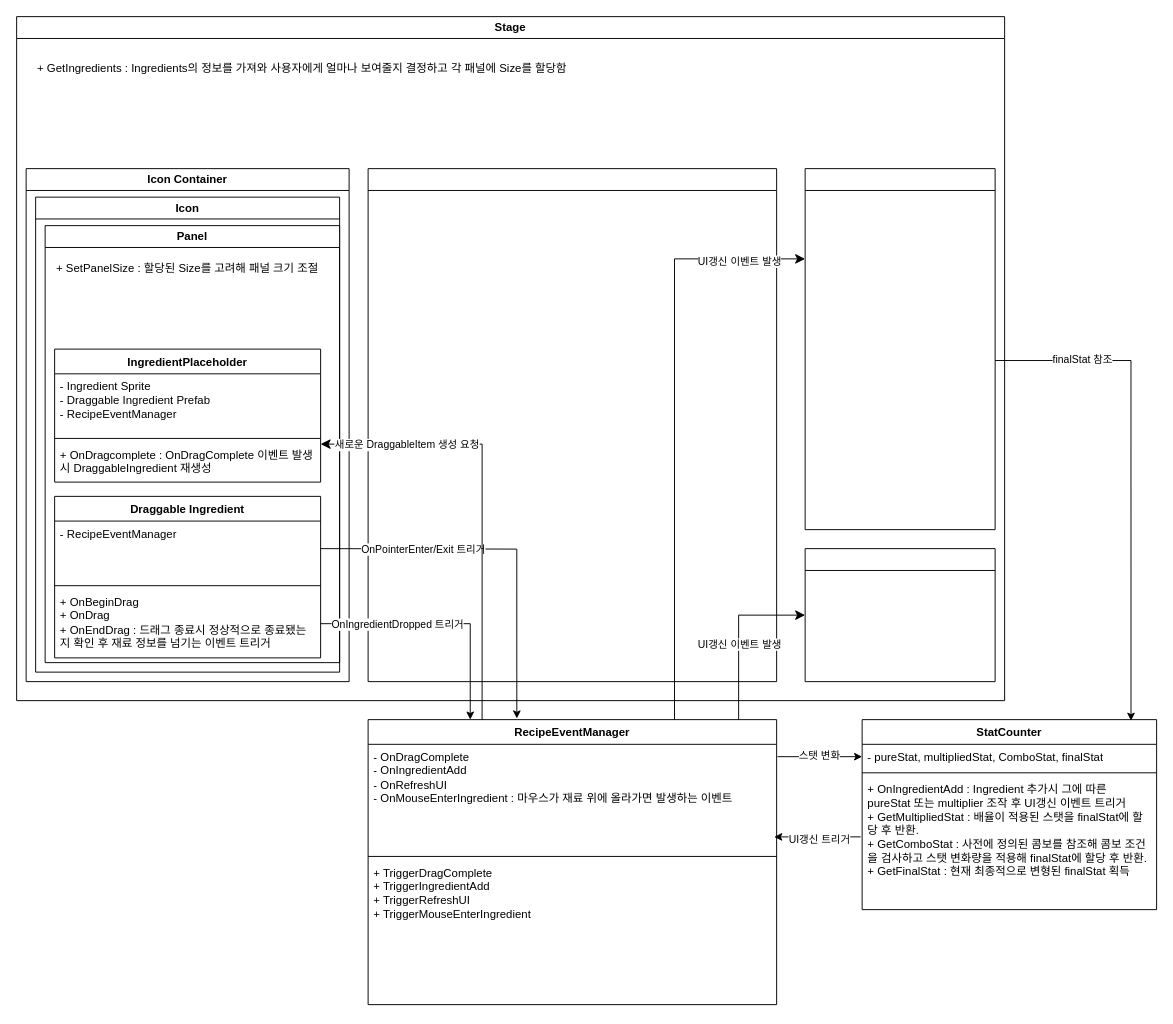
The diagram is 1173 pixels wide and 1024 high, and some of its shapes have lost their labels. Here are the shapes that lost their labels. From the top down, the centre of each, then its label:
(x=899, y=349): Stat Displayer
(x=572, y=425): Image
(x=899, y=615): Ingredient Stat
